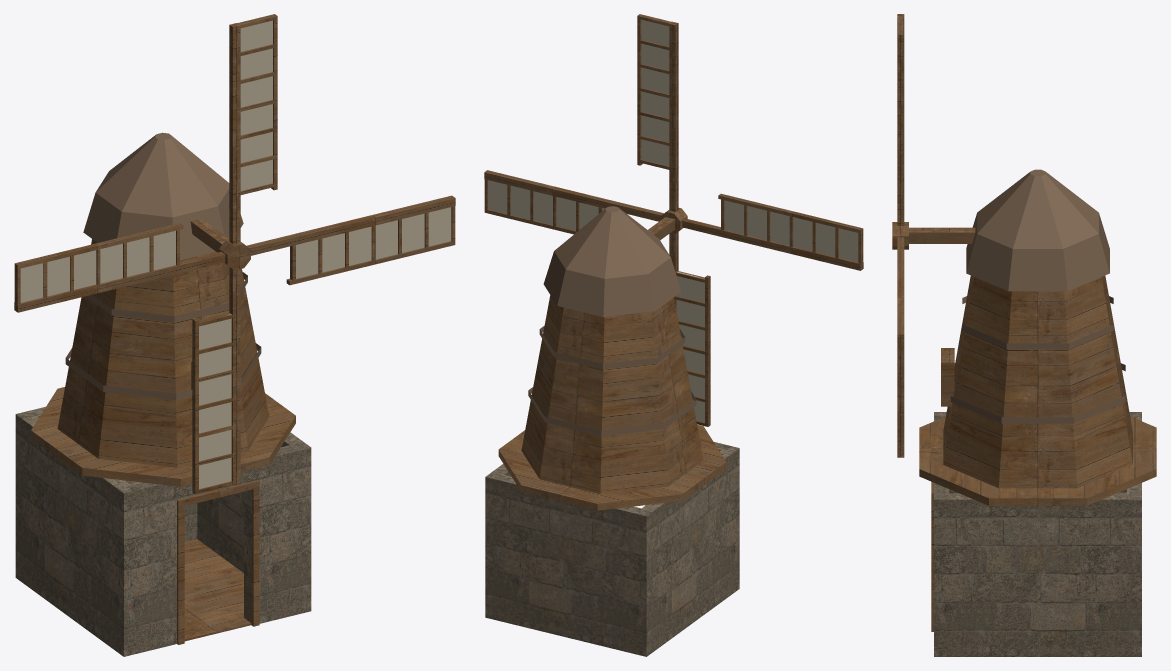
The model's file is wiatrak.glb.
3 views of the same model, side by side, from view 1: azimuth 30°, elevation 25°; view 2: azimuth 150°, elevation 25°; view 3: azimuth 270°, elevation 25° (orthographic). The views are drawn at different scales.
Visible parts, largest first — view 1: wiatrak_baza, chatka_strzecha, wiatrak_skrzydla; view 2: chatka_strzecha, wiatrak_baza, wiatrak_skrzydla; view 3: chatka_strzecha, wiatrak_baza, wiatrak_skrzydla.
Boxes of the visible parts, x1,y1,x2,y2 form: wiatrak_baza: (15, 406, 311, 656); chatka_strzecha: (31, 132, 295, 486); wiatrak_skrzydla: (14, 14, 455, 494); chatka_strzecha: (498, 206, 726, 510); wiatrak_baza: (485, 442, 739, 656); wiatrak_skrzydla: (484, 14, 863, 426); chatka_strzecha: (909, 169, 1156, 505); wiatrak_baza: (931, 412, 1141, 656); wiatrak_skrzydla: (892, 14, 908, 457).
Bounding box in the file's own units: 7 × 9.5 × 3.81.
Materials: 4 (2 with a texture image).
